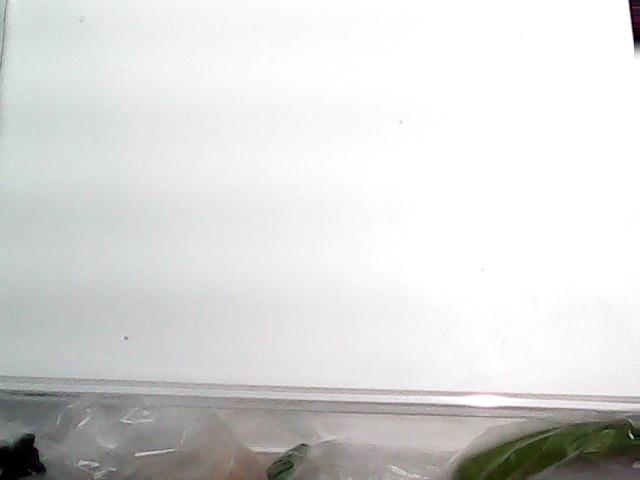pepper: (448, 412, 640, 480)
radish: (266, 443, 452, 480)
